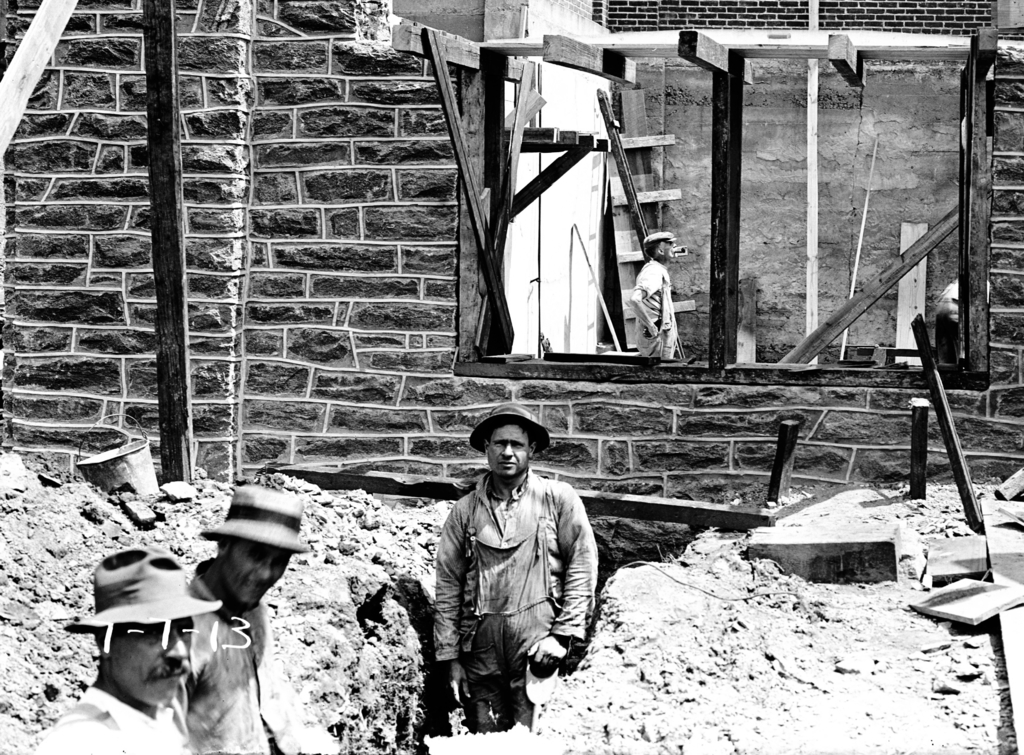Person: (184, 485, 313, 754)
